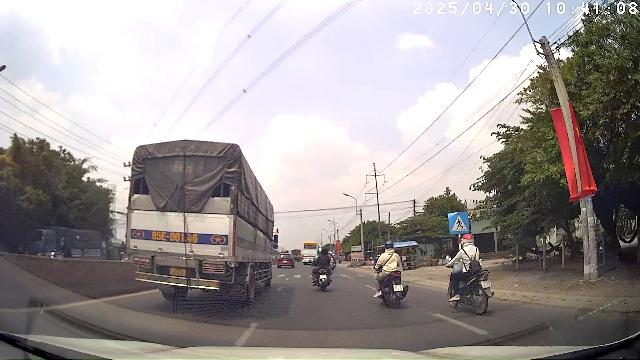423a-duong-nguoi-di-bo-sang-ngang-1: (449, 212, 470, 233)
